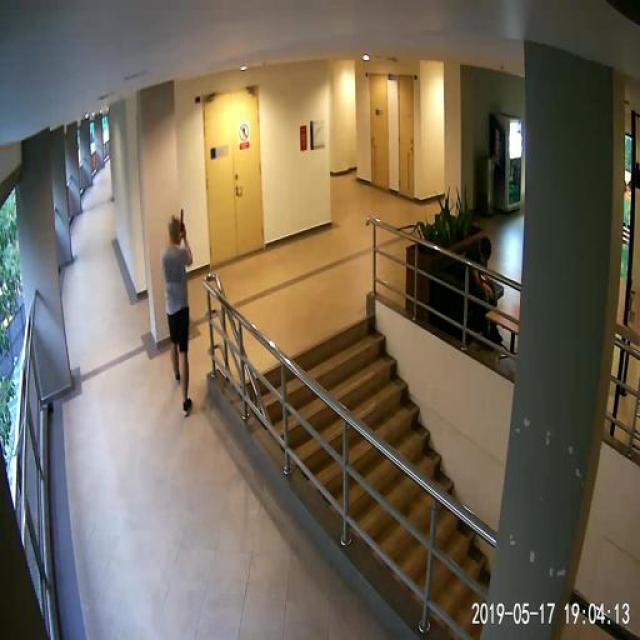Gun: (175, 205, 197, 233)
